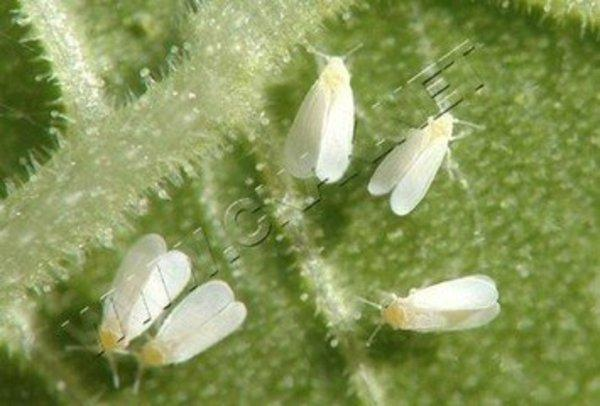Delphacidae: (61, 232, 193, 390), (113, 278, 249, 394), (366, 97, 480, 216), (281, 41, 357, 184), (356, 273, 502, 347)
